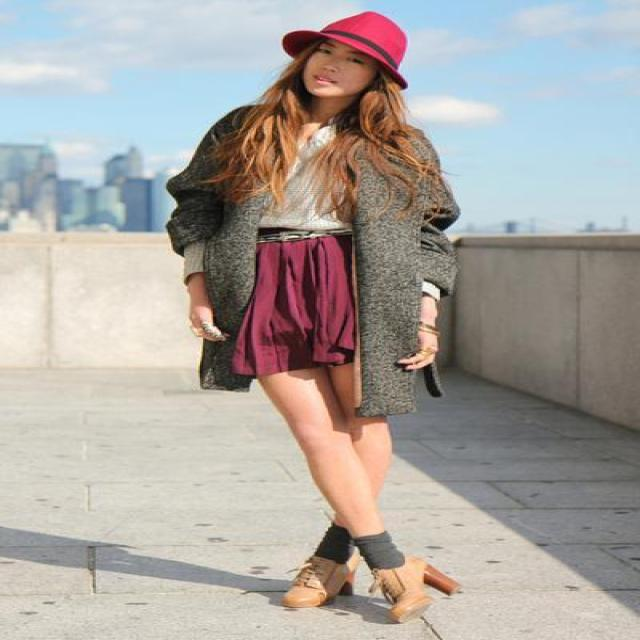hat: (282, 12, 404, 63)
jacket: (166, 115, 462, 417)
shirt: (244, 123, 370, 242)
shoe: (266, 552, 458, 620)
skirt: (234, 227, 371, 382)
